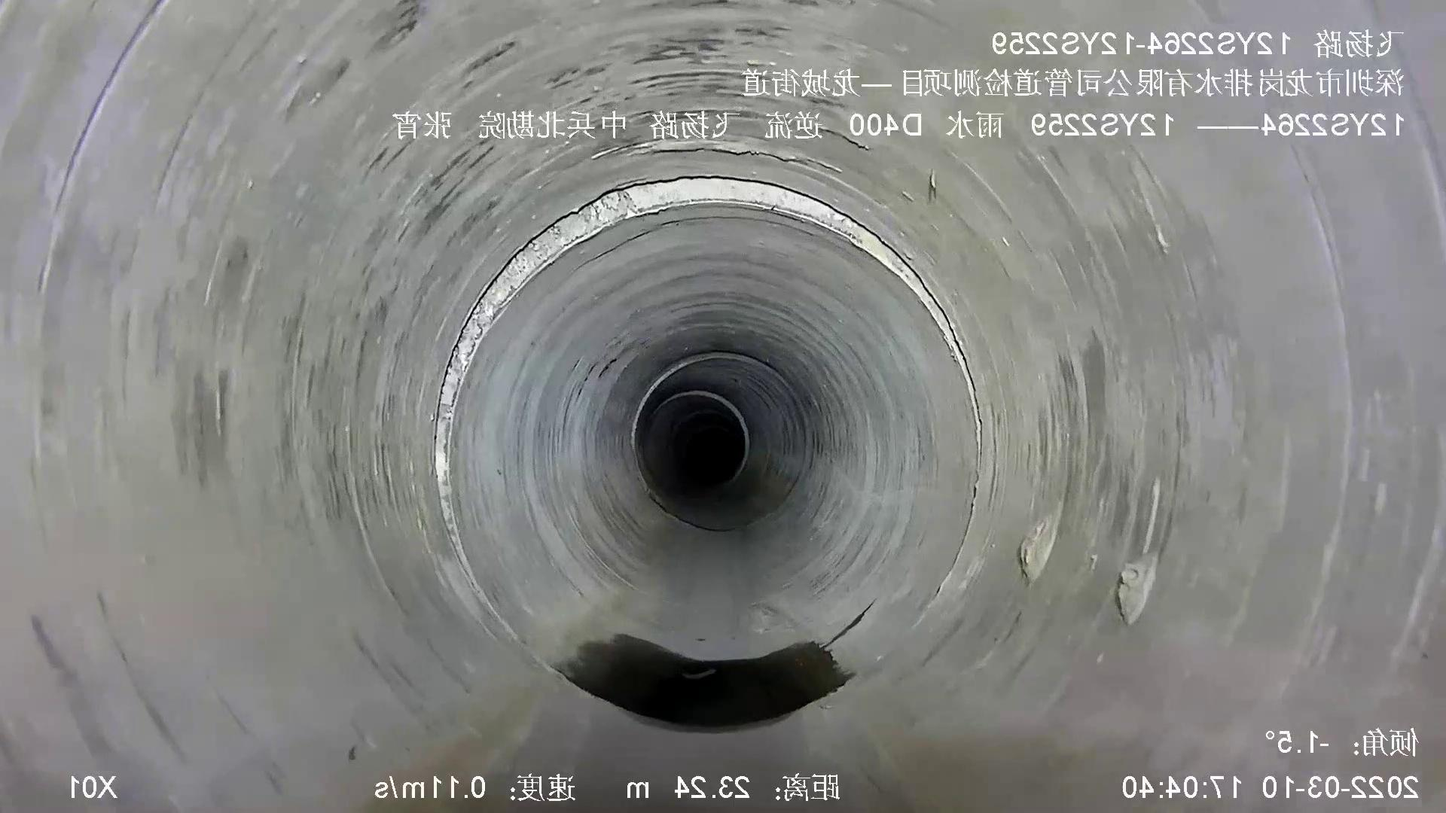CKTJ: (435, 175, 982, 608), (630, 351, 769, 464), (651, 390, 751, 482)
